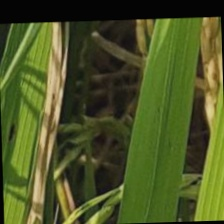Leaf_Blast: (36, 25, 71, 181)
